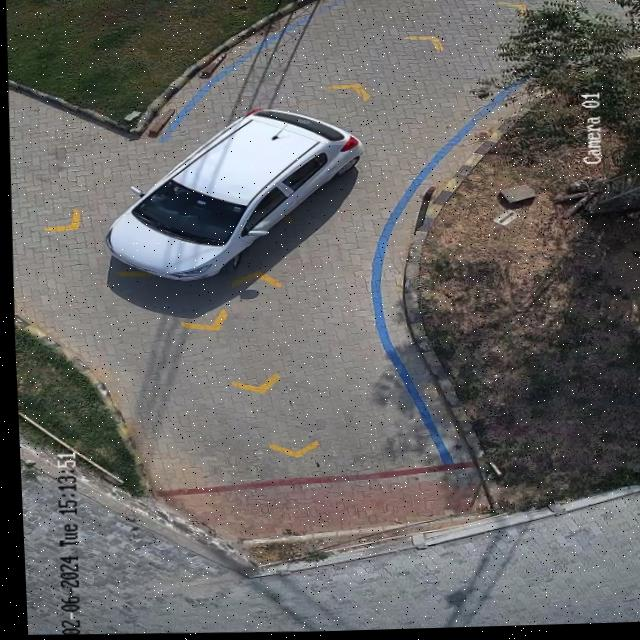car: (103, 110, 361, 281)
